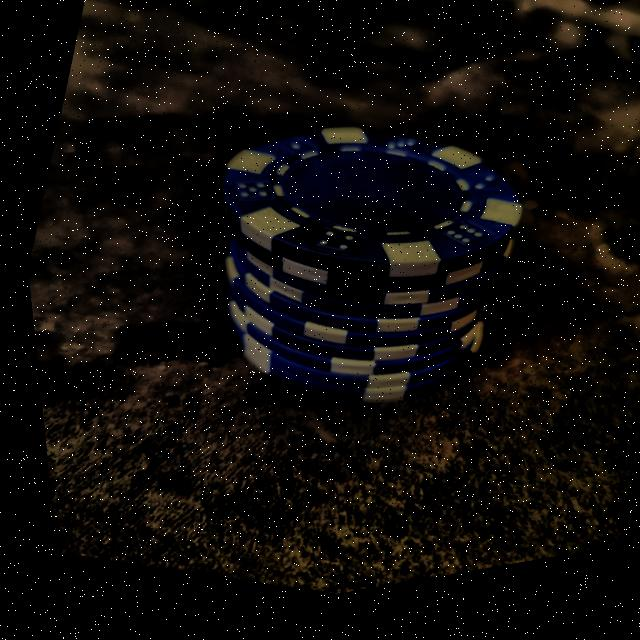Chip: (127, 41, 599, 491)
